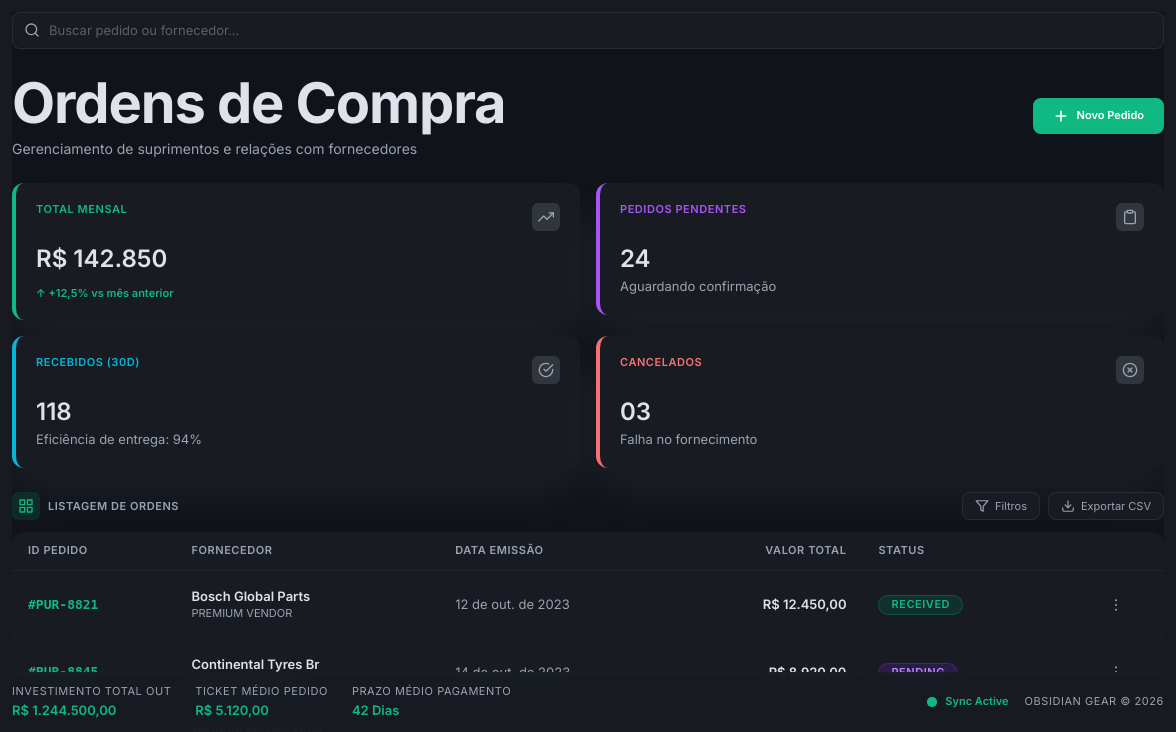
it: PurchasesPage — 6.x Exportar CSV integrado › 6.2 — exportar com filtro "received" ativo exibe contagem correta no toast
Click the button with aria-label "abrir filtros" at (1001, 506), box [962,492,1040,520]
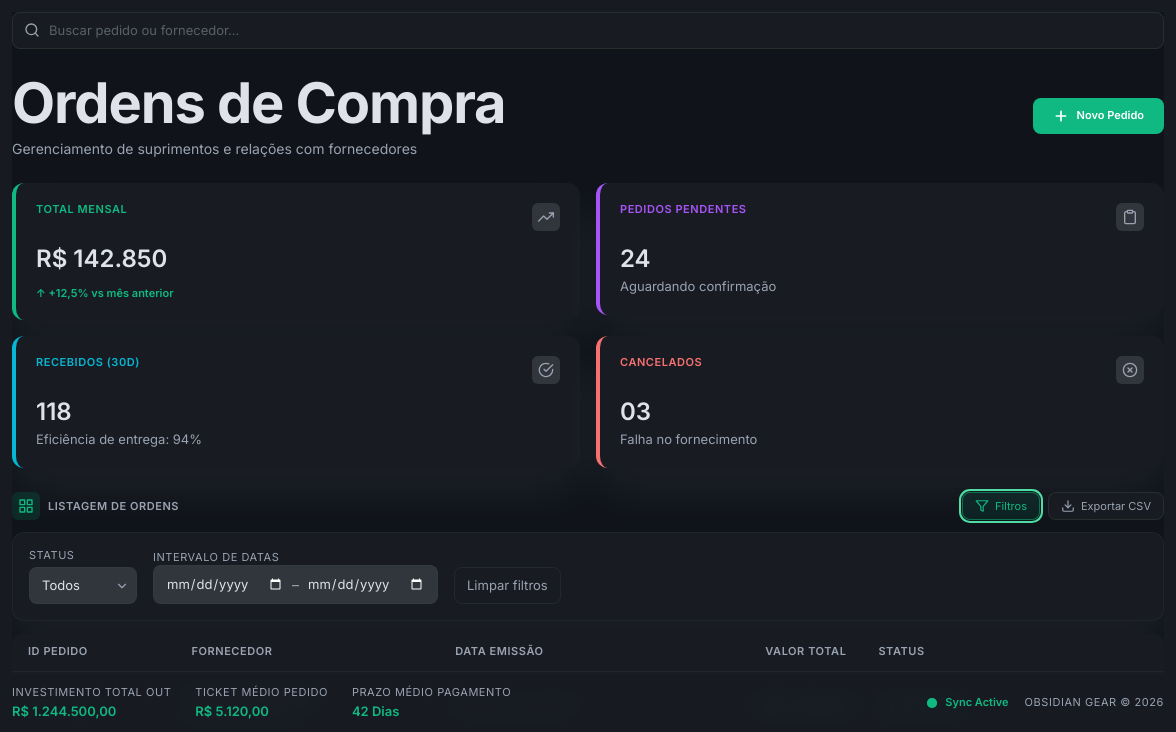
Select "Received" in the dropdown named "filtrar por status" at (83, 586), box [29,567,137,604]
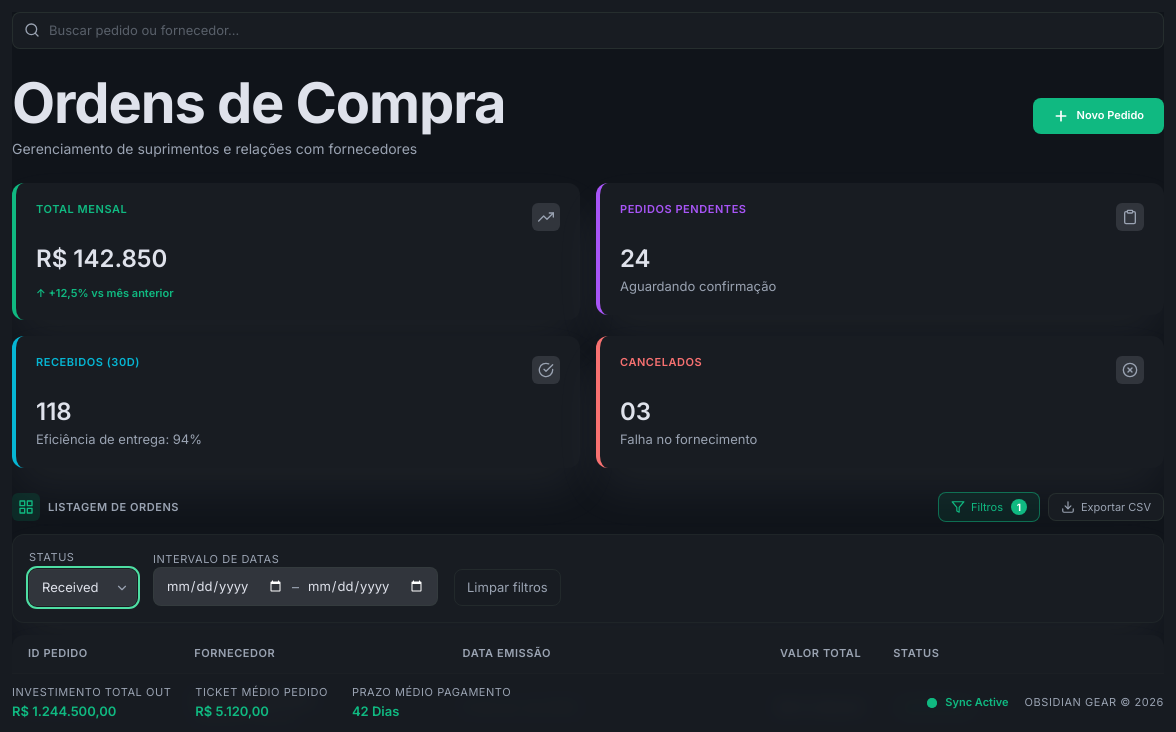
Click the button "Exportar CSV" at (1106, 507), box [1048,493,1164,521]
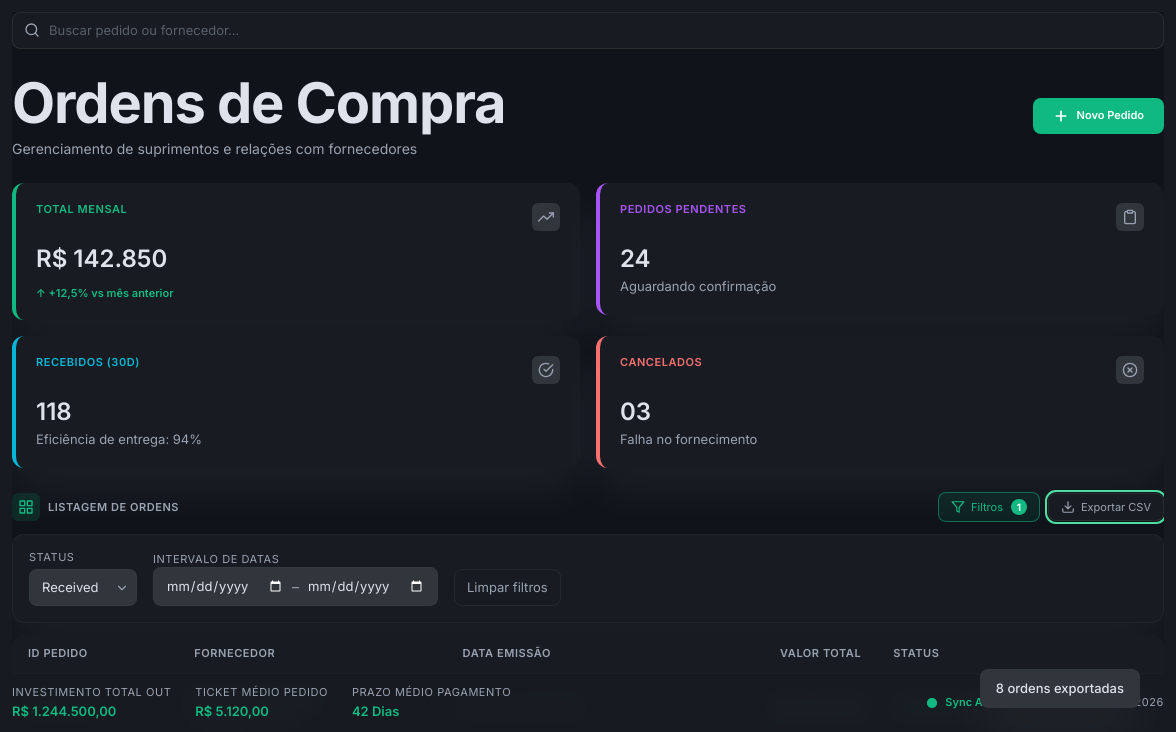
Expected: the message reads "8 ordens exportadas", [996,680,1124,696]
